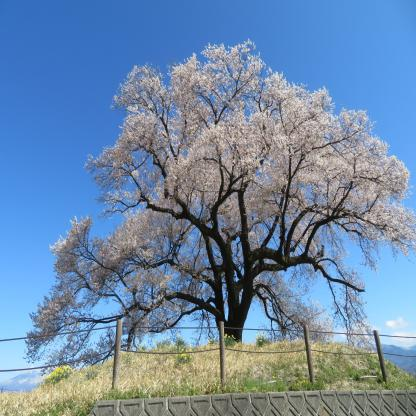EdohiganSakura: (23, 37, 416, 375)
